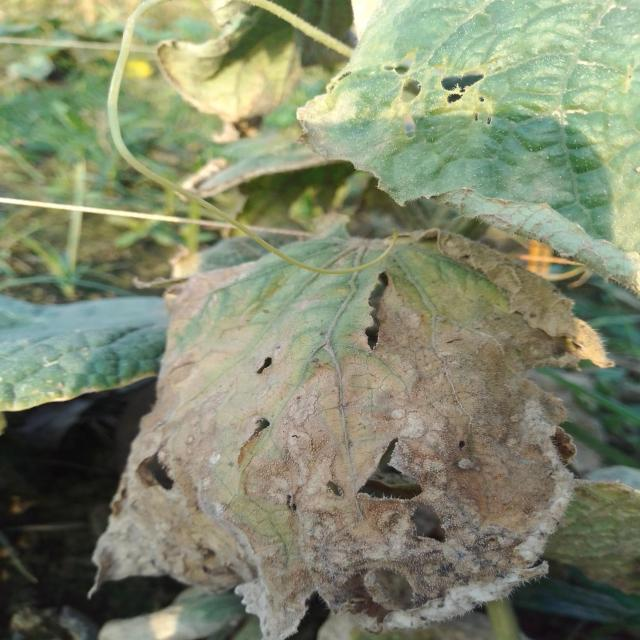cucumber_anthracnose: (138, 244, 578, 621), (345, 8, 618, 235)
